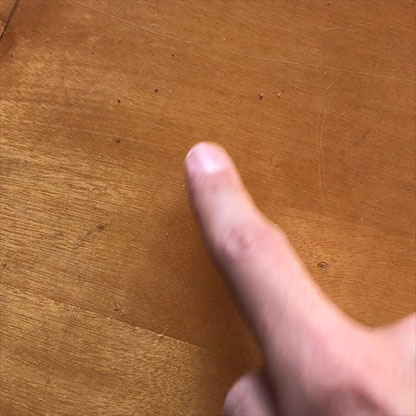fingertip: (179, 129, 251, 196)
